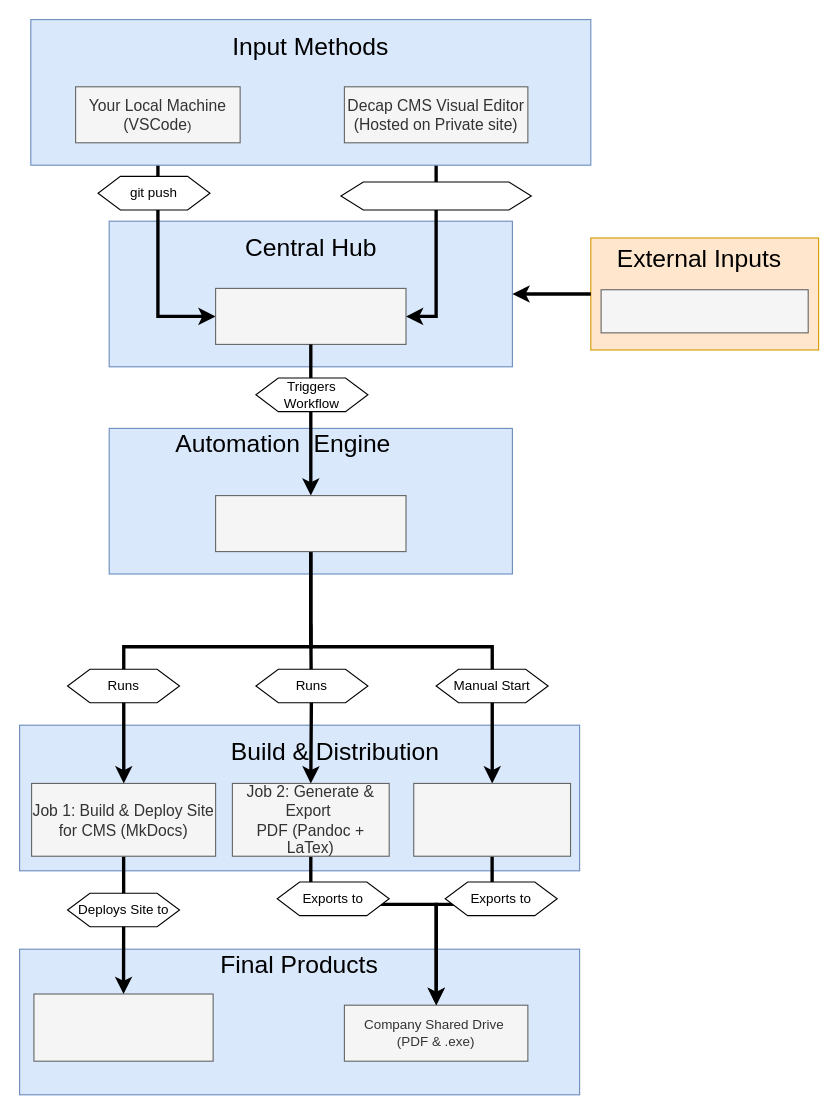
Image size: 839x1114. Some labels were removed from this diagram. The centre of each missing label's shape, as x and y in pixels:
"Commits Changes via Api" goes at [435,195].
"Engineering Shared Drive (Schemaitcs, pictures?)" goes at [704,311].
"GitHub Actions (CI/CD Workflow)" goes at [310,523].
"GitHub Repository (Single Source of Truth)" goes at [310,315].
"Job 3 (Manual): Package .exe app (Tauri)" goes at [492,819].
"Private Web Host (e.g. Netlify, Vercel)" goes at [123,1027].
